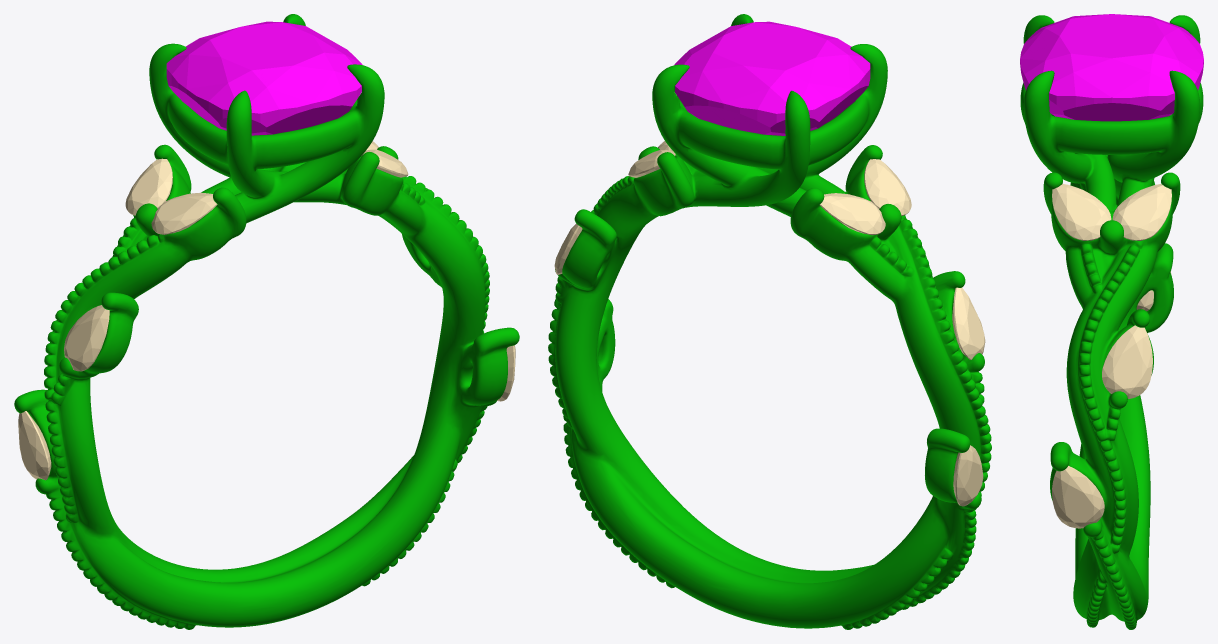
The model's file is BE1D3588_CU_200ct_RENDER.glb.
3 renders of one model, left to right at view 1: azimuth 30°, elevation 25°; view 2: azimuth 150°, elevation 25°; view 3: azimuth 270°, elevation 25°, orthographic.
Visible parts, largest first — view 1: Metal 01, CS_Diamond_Cushion, Diamond_Pear_Gem_SH.005, Diamond_Pear_Gem_SH.006, Diamond_Pear_Gem_SH.007, Diamond_Pear_Gem_SH.004; view 2: Metal 01, CS_Diamond_Cushion, Diamond_Pear_Gem_SH.007, Diamond_Pear_Gem_SH.006, Diamond_Pear_Gem_SH.005, Diamond_Pear_Gem_SH.004; view 3: Metal 01, CS_Diamond_Cushion, Diamond_Pear_Gem_SH.002, Diamond_Pear_Gem_SH.003, Diamond_Pear_Gem_SH, Diamond_Pear_Gem_SH.001.
Boxes of the visible parts, left/top/right/bottom form: Metal 01: left=14, top=14, right=519, bottom=629; CS_Diamond_Cushion: left=166, top=21, right=362, bottom=135; Diamond_Pear_Gem_SH.005: left=64, top=305, right=109, bottom=371; Diamond_Pear_Gem_SH.006: left=151, top=192, right=217, bottom=234; Diamond_Pear_Gem_SH.007: left=125, top=158, right=172, bottom=215; Diamond_Pear_Gem_SH.004: left=18, top=411, right=51, bottom=480; Metal 01: left=548, top=14, right=991, bottom=629; CS_Diamond_Cushion: left=674, top=21, right=870, bottom=135; Diamond_Pear_Gem_SH.007: left=819, top=193, right=885, bottom=235; Diamond_Pear_Gem_SH.006: left=864, top=159, right=911, bottom=215; Diamond_Pear_Gem_SH.005: left=952, top=287, right=985, bottom=359; Diamond_Pear_Gem_SH.004: left=953, top=445, right=983, bottom=506; Metal 01: left=1020, top=15, right=1203, bottom=629; CS_Diamond_Cushion: left=1020, top=14, right=1203, bottom=121; Diamond_Pear_Gem_SH.002: left=1102, top=325, right=1152, bottom=398; Diamond_Pear_Gem_SH.003: left=1052, top=466, right=1104, bottom=528; Diamond_Pear_Gem_SH: left=1052, top=184, right=1111, bottom=240; Diamond_Pear_Gem_SH.001: left=1112, top=184, right=1171, bottom=240.
Bounding box in the file's own units: 20.94 × 25.25 × 7.5.
